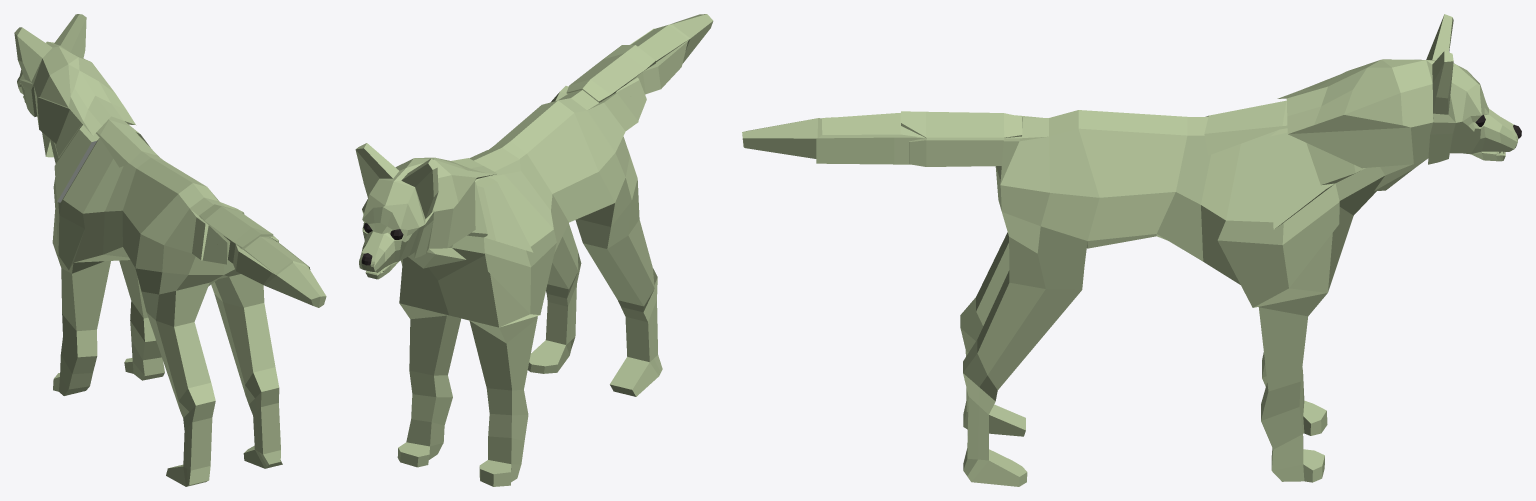
File: wolf.fbx
3 views of the same model, side by side, from view 1: azimuth 30°, elevation 25°; view 2: azimuth 150°, elevation 25°; view 3: azimuth 270°, elevation 25° (orthographic). The views are drawn at different scales.
Visible parts, largest first — view 1: Wolf; view 2: Wolf; view 3: Wolf.
Boxes of the visible parts, box(x1,y1,x2,y2) form: Wolf: box(14, 14, 326, 486); Wolf: box(355, 14, 713, 486); Wolf: box(742, 14, 1521, 486).
Size of the model in its own units: 286 by 781 by 1307.
Materials: 1 (1 with a texture image).
